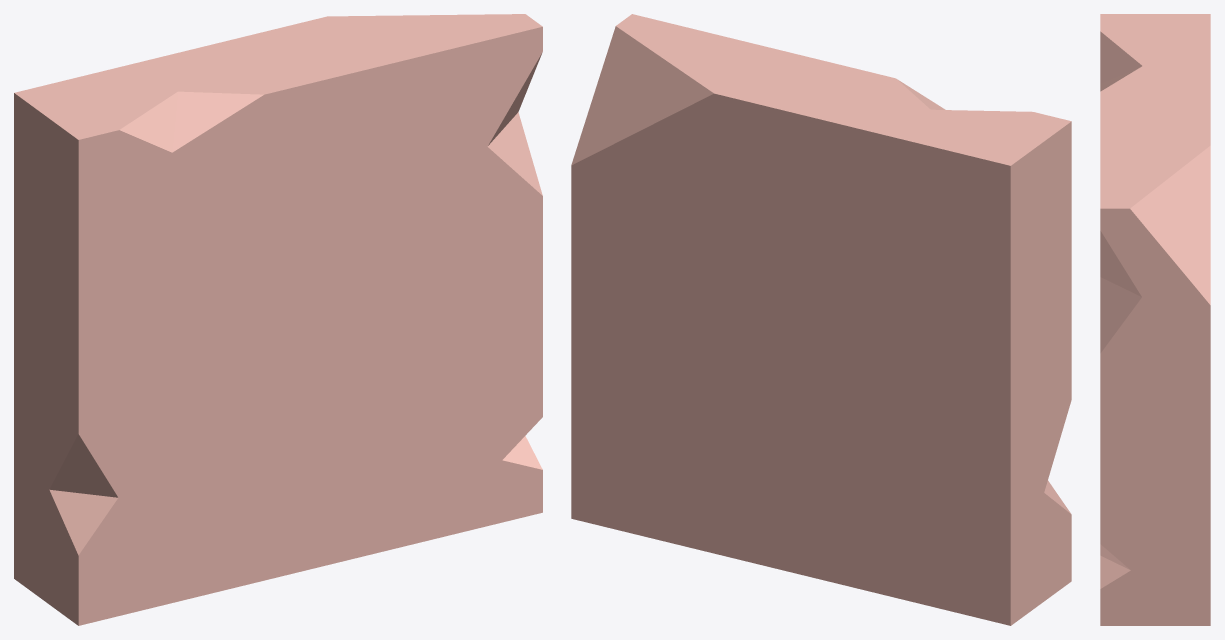
The model's file is Mega_Asset_s_Pack_Cube_207.FBX.
3 renders of one model, left to right at view 1: azimuth 30°, elevation 25°; view 2: azimuth 150°, elevation 25°; view 3: azimuth 270°, elevation 25°, orthographic. The views are drawn at different scales.
Parts seen in each view (by area): view 1: Mega_Asset_s_Pack_Cube_207; view 2: Mega_Asset_s_Pack_Cube_207; view 3: Mega_Asset_s_Pack_Cube_207.
Part boxes in pixels (left/top/right/bottom): Mega_Asset_s_Pack_Cube_207: left=14, top=14, right=542, bottom=625; Mega_Asset_s_Pack_Cube_207: left=571, top=14, right=1071, bottom=625; Mega_Asset_s_Pack_Cube_207: left=1100, top=14, right=1210, bottom=625.
Size of what is drawn, in the model's own units: 248 by 59.53 by 248.
